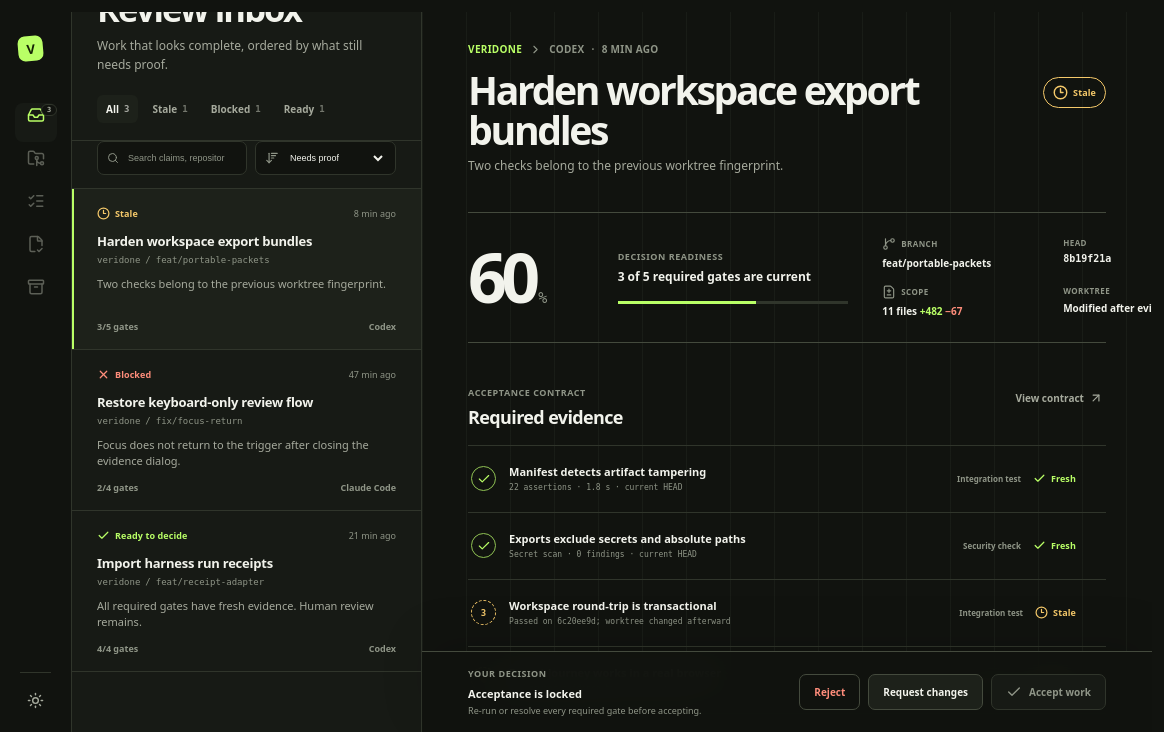
Test: review desk › allows a human decision only for a ready review
(page scrolled)
Click the button "Import harness run receipts" at coordinates (151, 536), box [72,511,421,672]
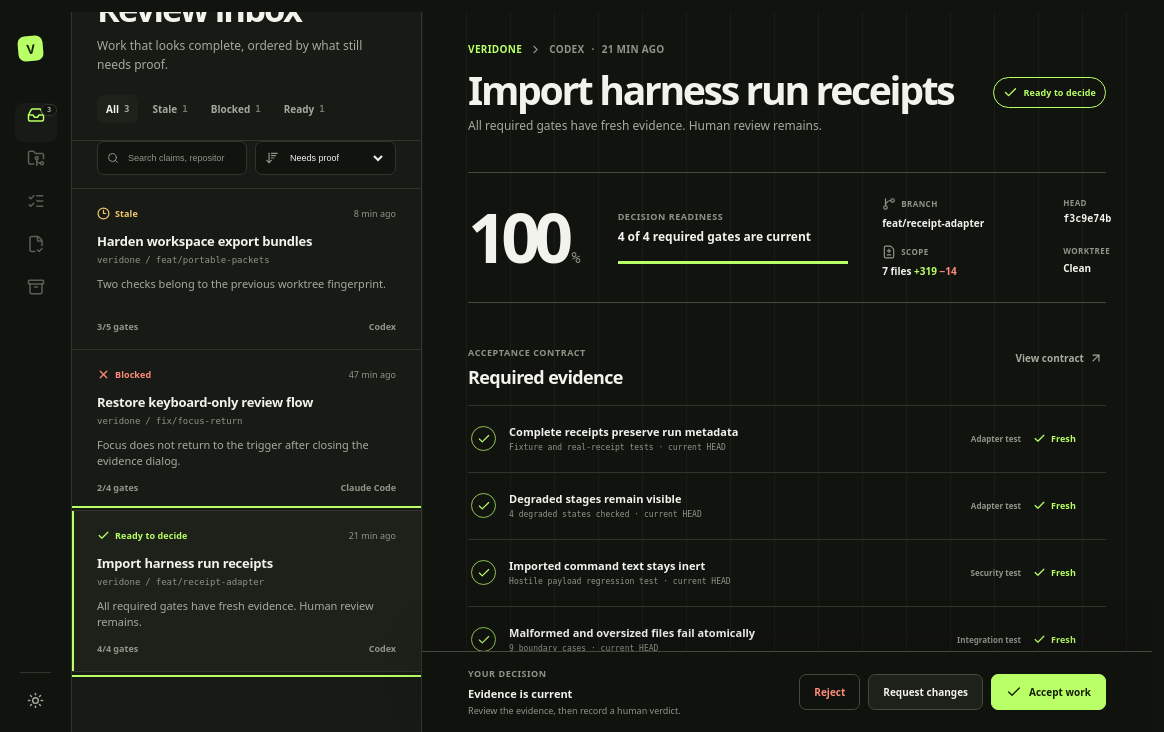
Expected: the button "Accept work" is enabled
Click the button "Accept work" at coordinates (1049, 692), box [991,674,1106,710]
(page scrolled)
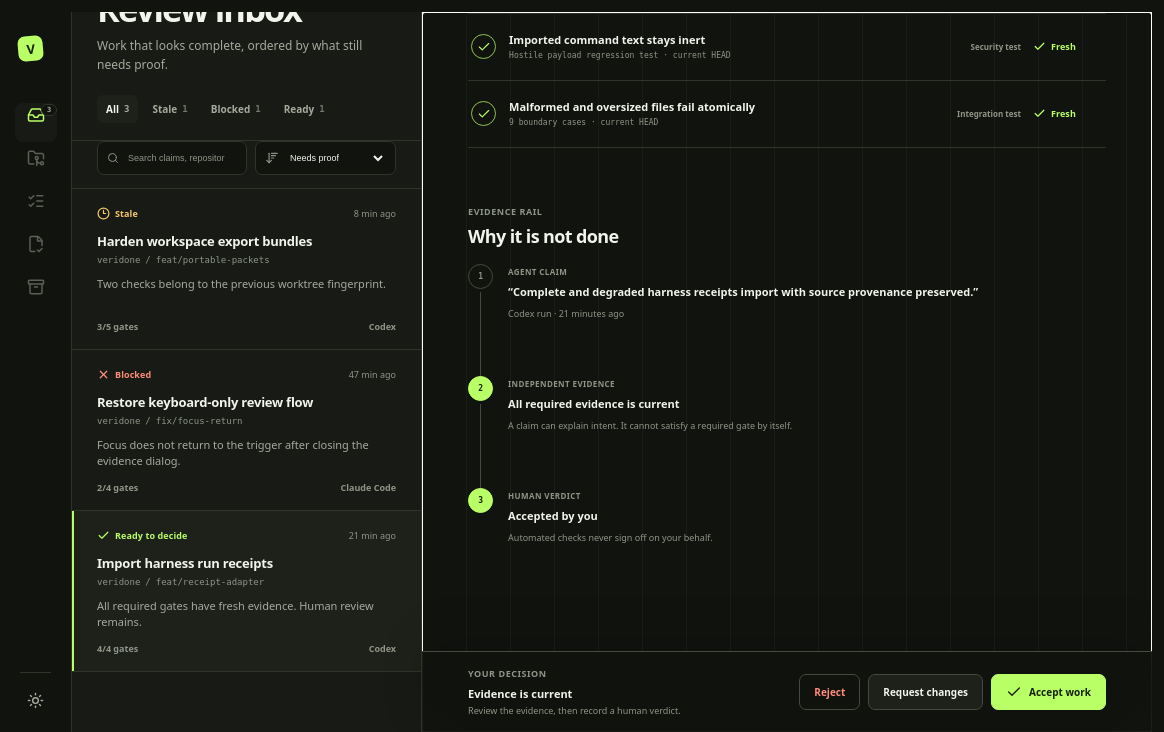
Expected: the text "Accepted by you" is shown, [508,508,598,523]
